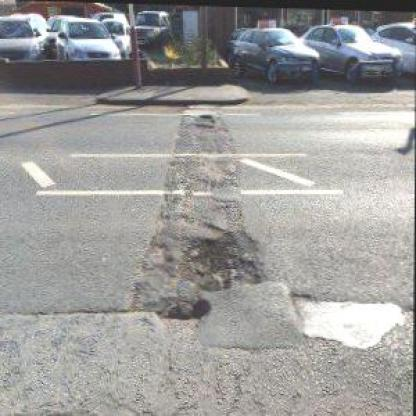pothole: (172, 224, 266, 288), (156, 294, 214, 326), (194, 110, 216, 132)
